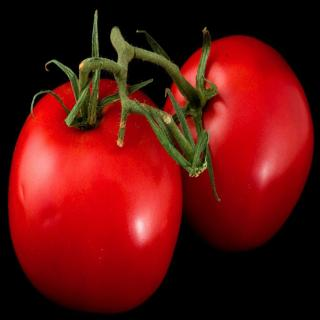tomato: (11, 9, 184, 313), (164, 34, 315, 256)
